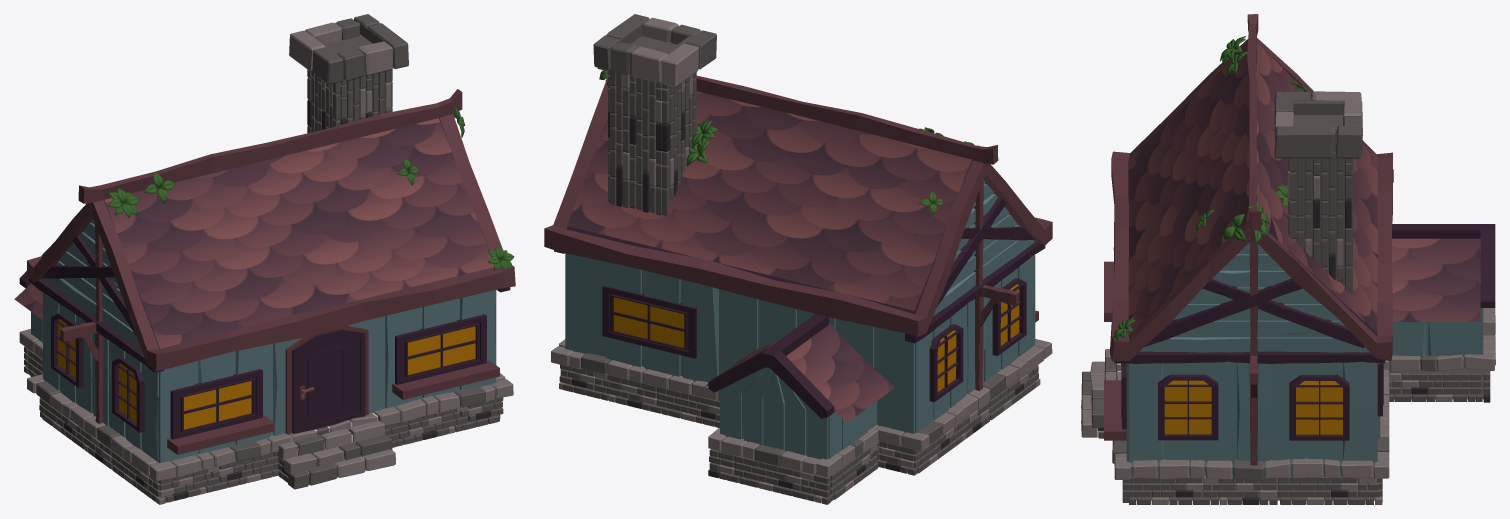
The model's file is casa-madeira2.fbx.
3 renders of one model, left to right at view 1: azimuth 30°, elevation 25°; view 2: azimuth 150°, elevation 25°; view 3: azimuth 270°, elevation 25°, orthographic. The views are drawn at different scales.
Parts seen in each view (by area): view 1: CasaMadeira2_LOD0, PortaCasaMadeira2; view 2: CasaMadeira2_LOD0; view 3: CasaMadeira2_LOD0.
Boxes of the visible parts, left/top/right/bottom form: CasaMadeira2_LOD0: left=14, top=14, right=515, bottom=504; PortaCasaMadeira2: left=292, top=329, right=365, bottom=433; CasaMadeira2_LOD0: left=544, top=14, right=1052, bottom=504; CasaMadeira2_LOD0: left=1081, top=14, right=1495, bottom=504.
Size of what is drawn, in the model's own units: 7.23 by 5.47 by 5.72.
